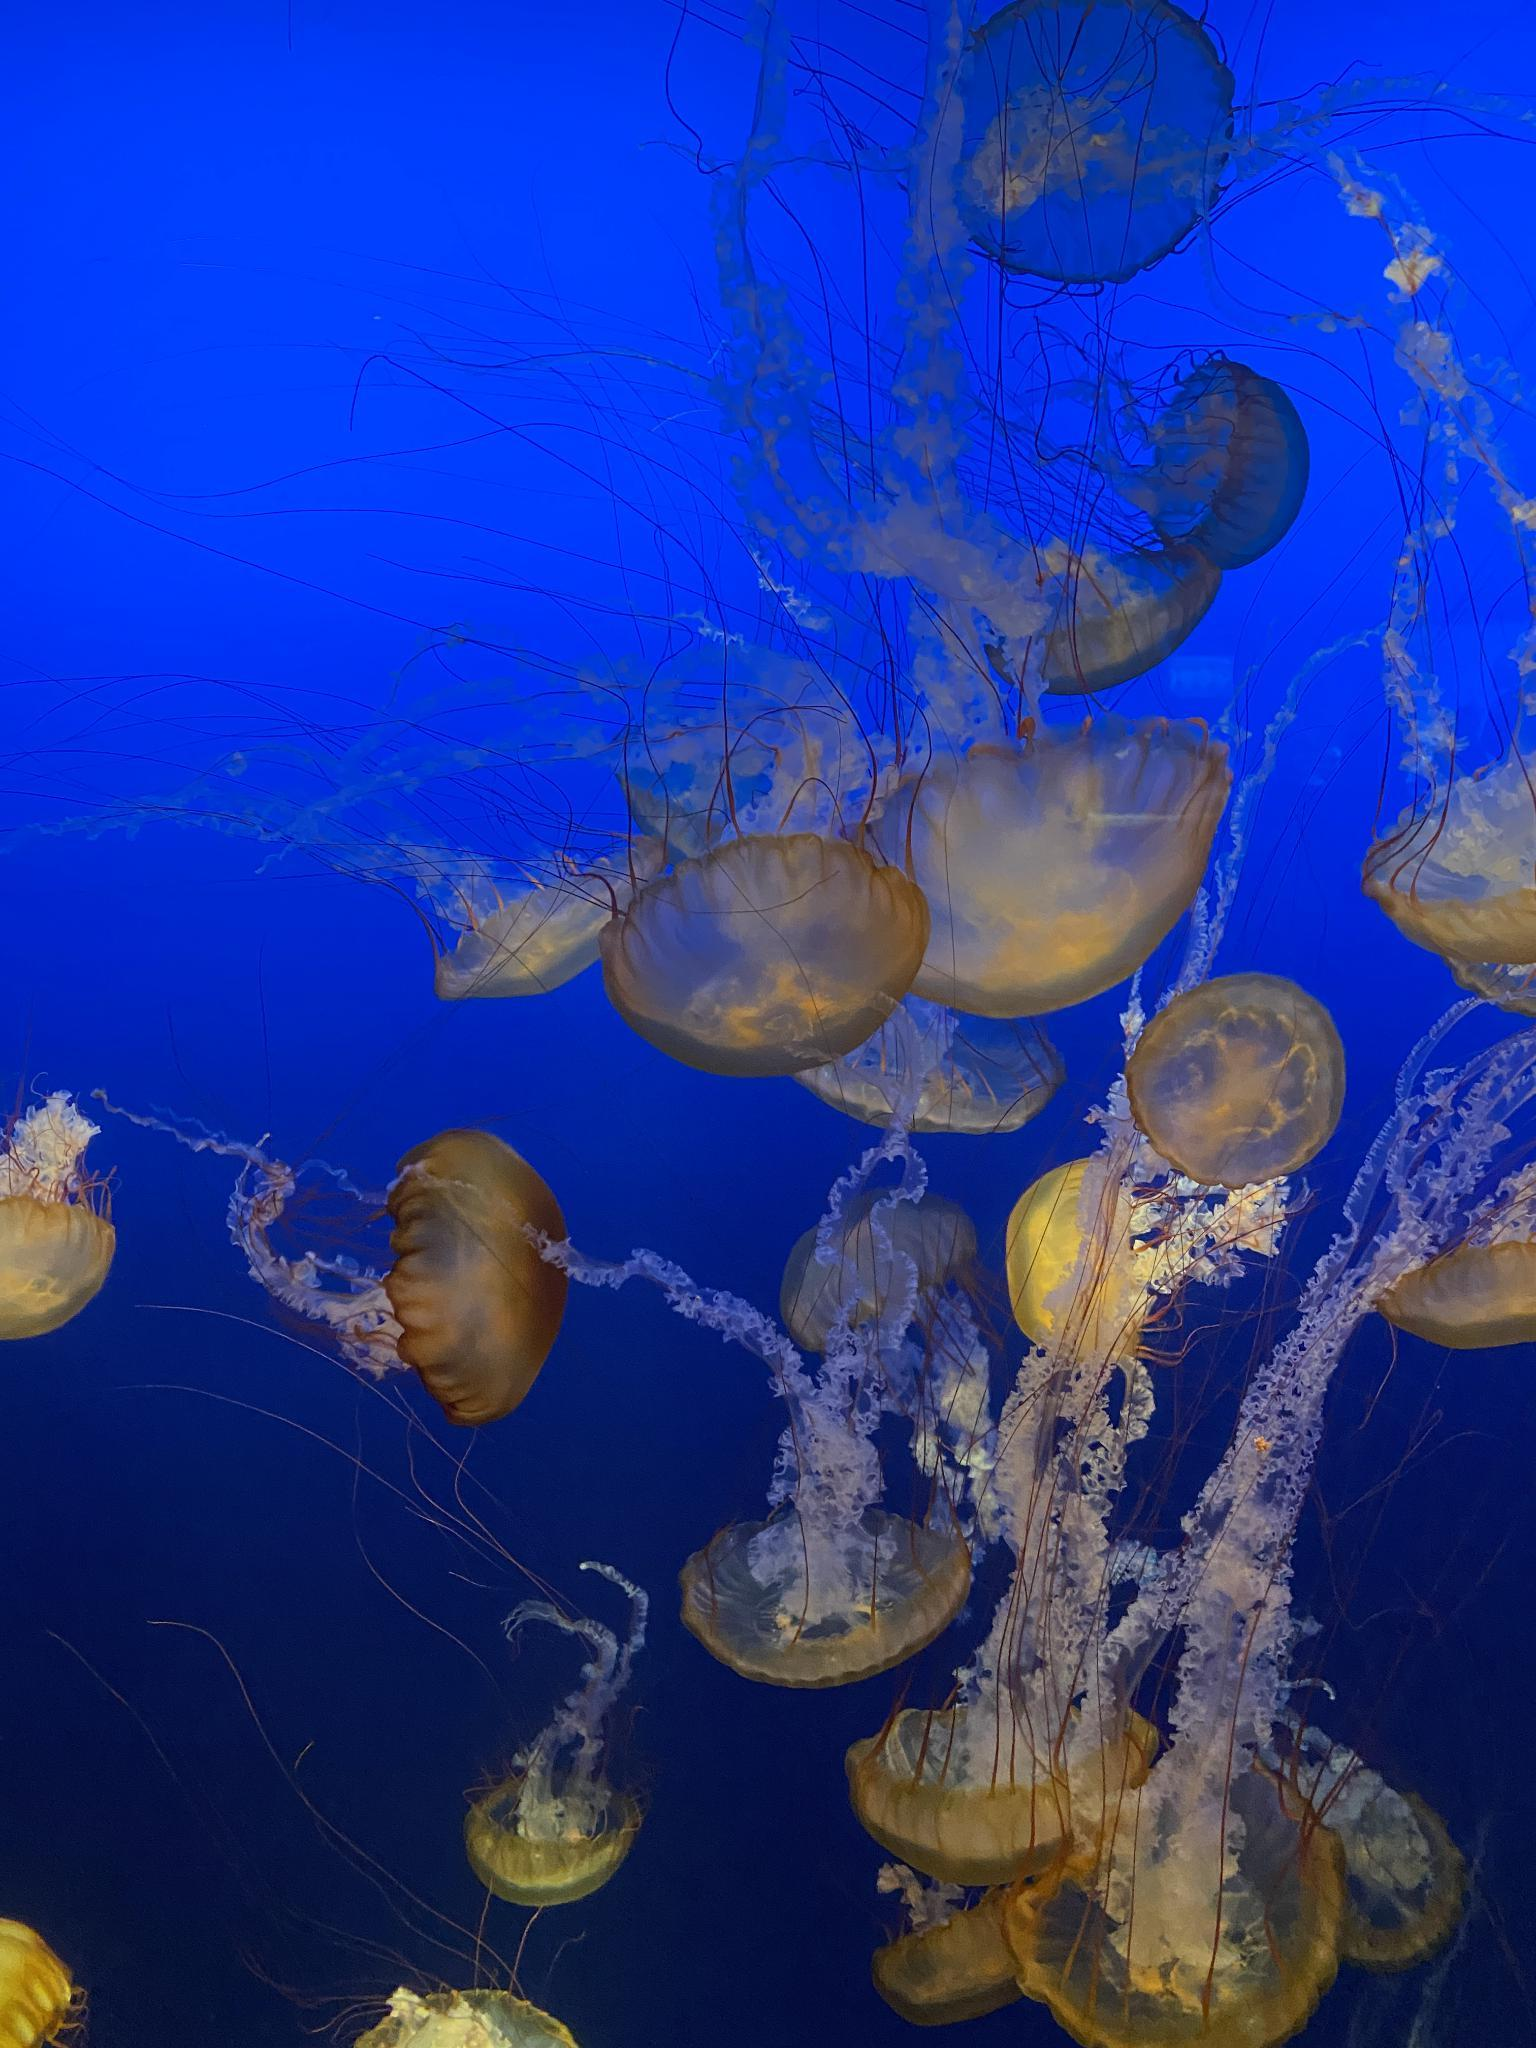jellyfish: (913, 0, 1288, 335), (1013, 1737, 1375, 2037), (862, 718, 1217, 1021), (616, 848, 939, 1064), (852, 1672, 1168, 1858), (684, 1500, 991, 1688), (400, 1129, 579, 1430), (1108, 1000, 1357, 1208), (1262, 1742, 1488, 1969), (1128, 379, 1333, 577), (968, 1163, 1162, 1372), (791, 1006, 1070, 1142), (968, 543, 1238, 682), (1368, 1180, 1534, 1400), (1363, 747, 1536, 955), (858, 1863, 1096, 2006), (418, 1766, 676, 1896), (778, 1184, 976, 1335), (0, 1168, 150, 1347), (444, 885, 636, 1014), (345, 1972, 576, 2046), (2, 1903, 81, 2048)
